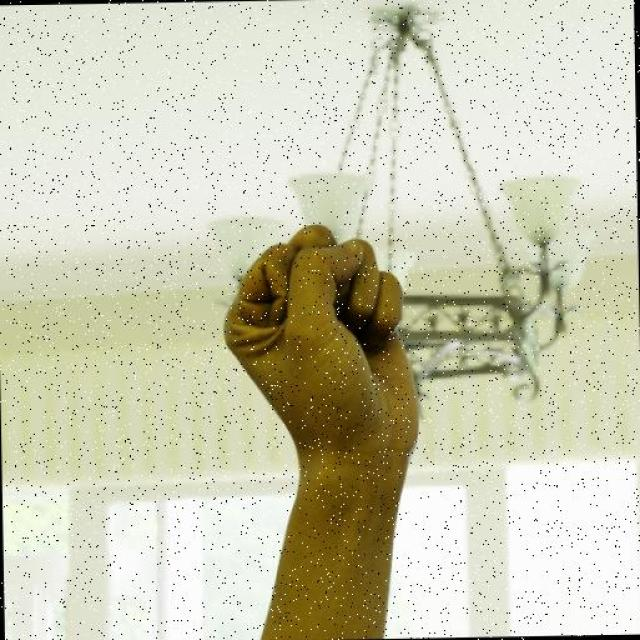S: (214, 218, 426, 480)
